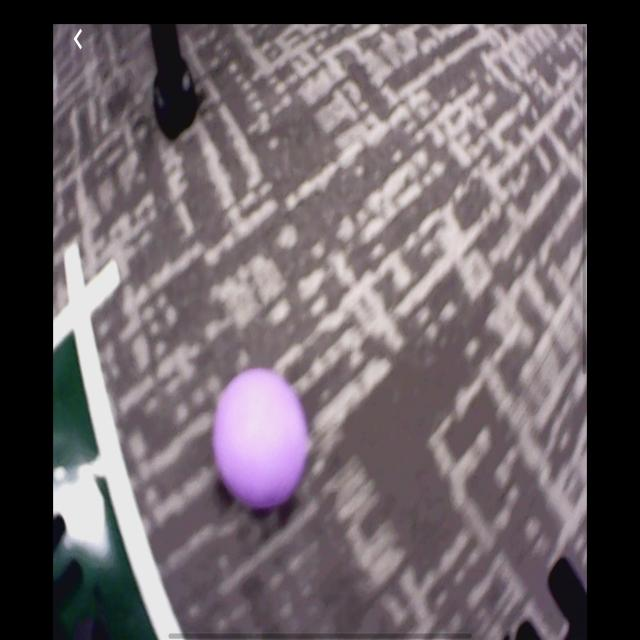ball: (214, 365, 307, 513)
